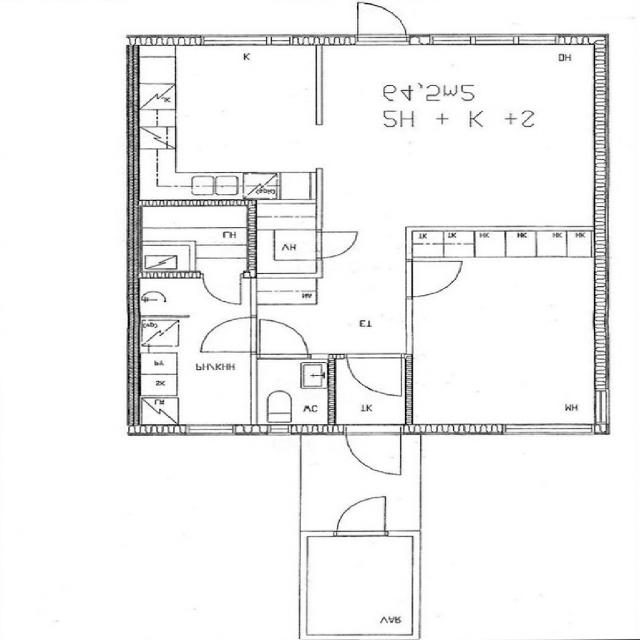door: (346, 425, 401, 474), (347, 354, 403, 397), (358, 0, 406, 45), (406, 261, 462, 297), (336, 496, 385, 536), (201, 318, 256, 352), (260, 320, 308, 358), (203, 271, 241, 305), (316, 232, 359, 258)
